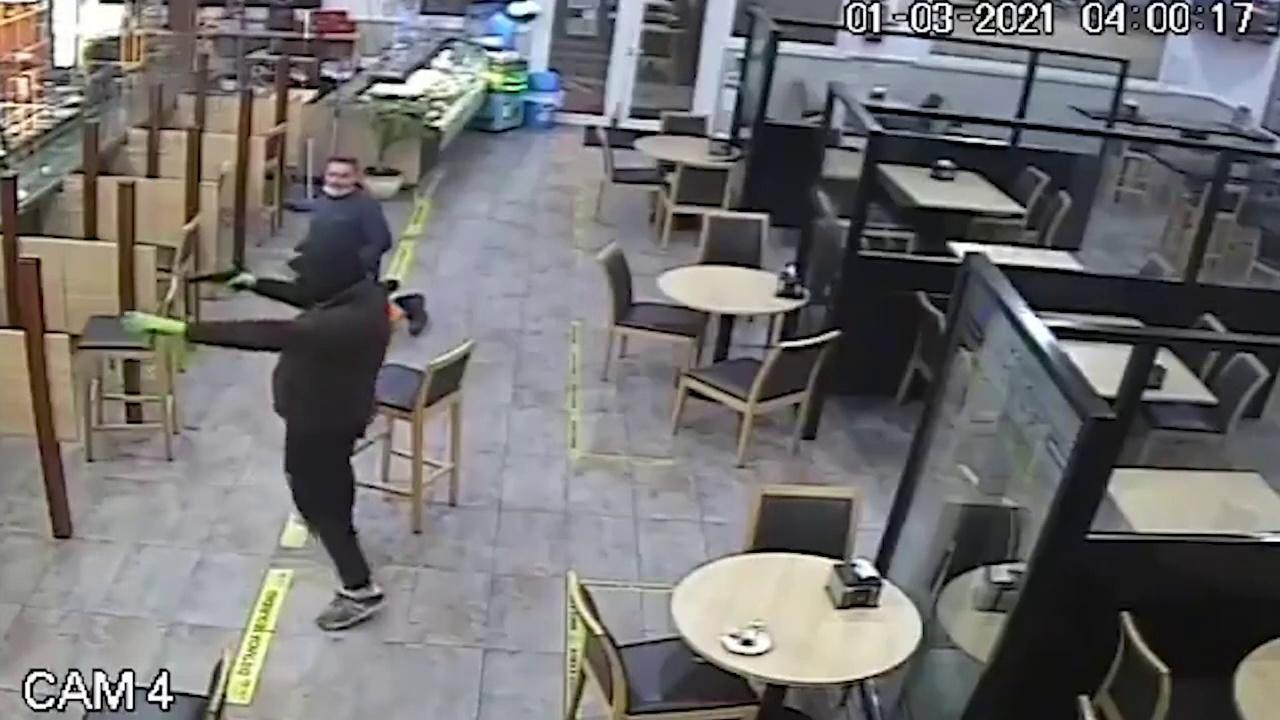Guns: (162, 252, 272, 309)
